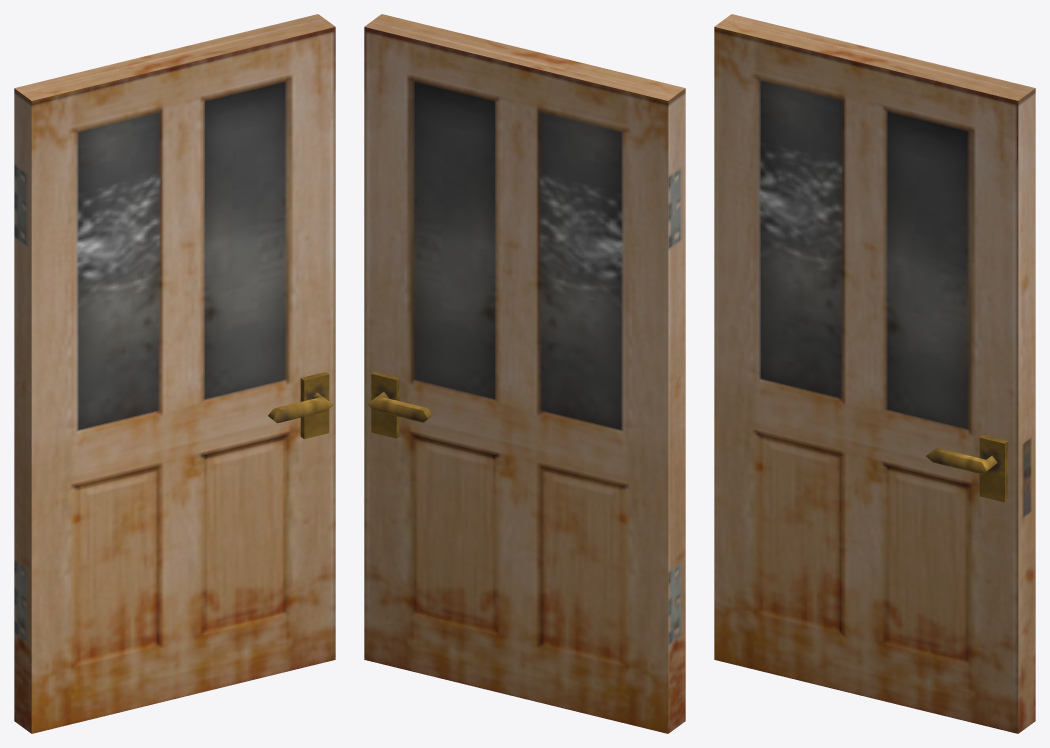
File: door_005.obj
3 views of the same model, side by side, from view 1: azimuth 30°, elevation 25°; view 2: azimuth 150°, elevation 25°; view 3: azimuth 330°, elevation 25° (orthographic).
Visible parts, largest first — view 1: Door06, DoorHandle_Handle; view 2: Door06, DoorHandle_Handle.001; view 3: Door06, DoorHandle_Handle.
Part boxes in pixels (x1,y1,x2,y2): Door06: (14,14,335,733); DoorHandle_Handle: (268,372,333,439); Door06: (364,14,685,733); DoorHandle_Handle.001: (367,372,432,438); Door06: (714,14,1035,733); DoorHandle_Handle: (926,435,1008,502).
Bounding box in the file's own units: 1 × 1.99 × 0.265.
Materials: 2 (2 with a texture image).
